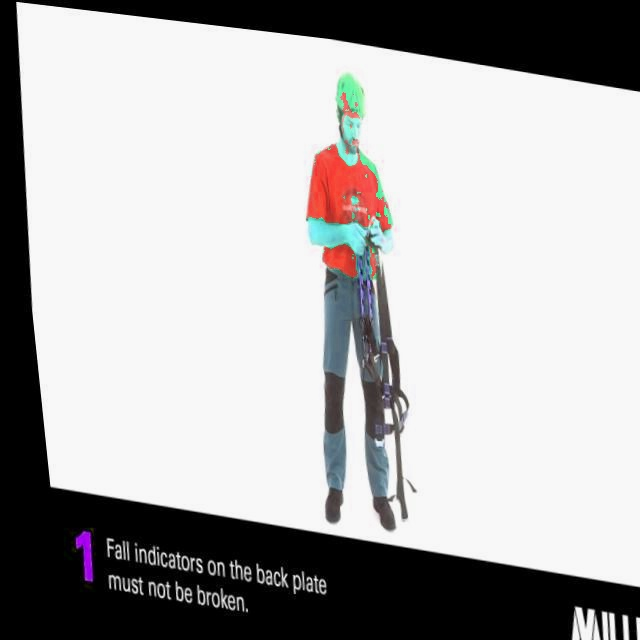safety belt: (302, 177, 424, 458)
